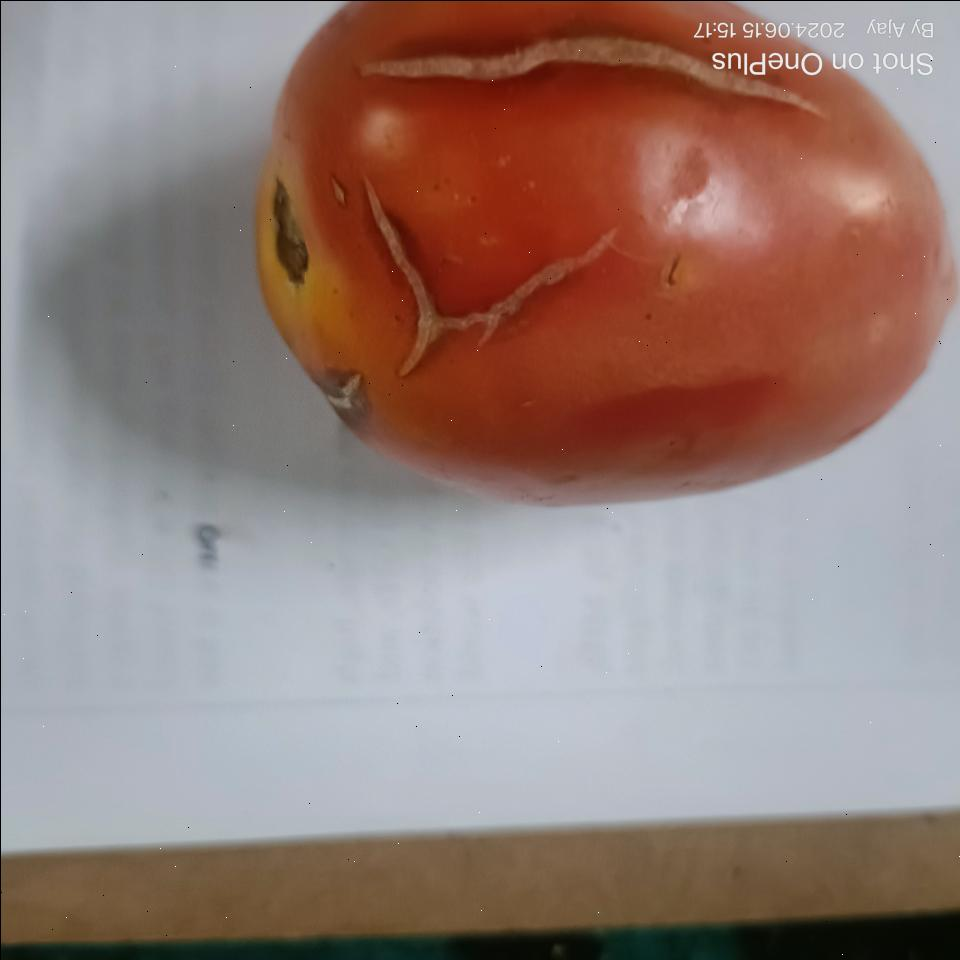Cracking: (336, 35, 800, 97), (364, 190, 448, 386)
